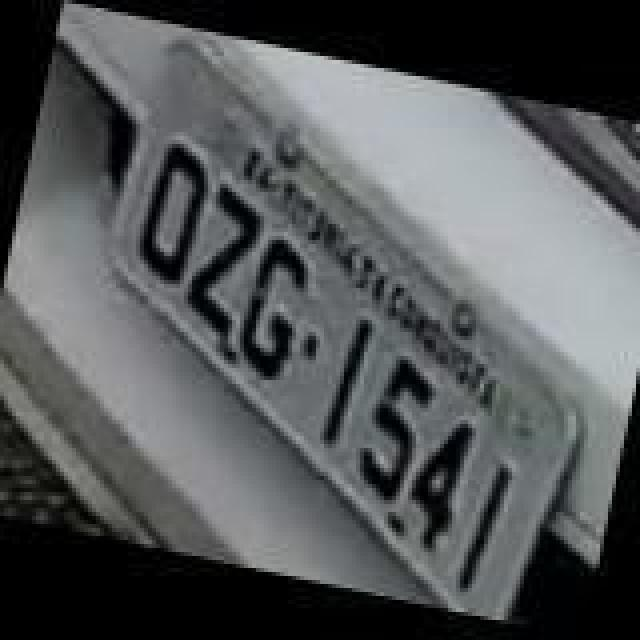1: (446, 460, 514, 596), (312, 308, 376, 452)
4: (390, 408, 482, 568)
5: (344, 346, 440, 502)
G: (226, 228, 318, 388)
O: (128, 128, 216, 288)
Z: (176, 178, 272, 342)
